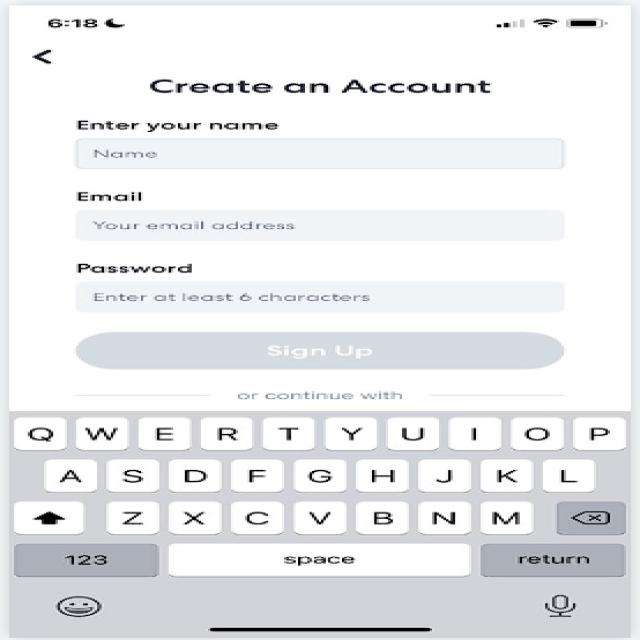button: (61, 327, 574, 375)
icon button: (27, 37, 63, 74)
input: (58, 182, 583, 248), (58, 110, 583, 174), (61, 256, 583, 318)
text: (139, 71, 500, 101)
